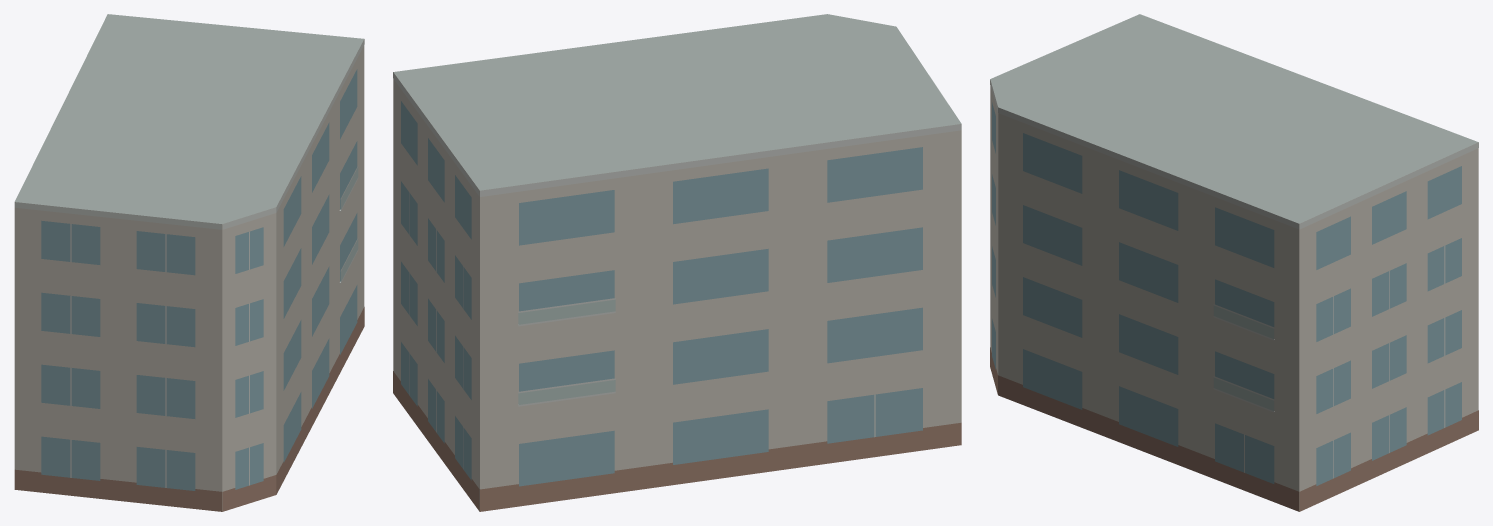
The model's file is survey-upis-32951847.glb.
3 views of the same model, side by side, from view 1: azimuth 30°, elevation 25°; view 2: azimuth 150°, elevation 25°; view 3: azimuth 270°, elevation 25° (orthographic). The views are drawn at different scales.
Visible parts, largest first — view 1: survey-upis-32951847.tmp; view 2: survey-upis-32951847.tmp; view 3: survey-upis-32951847.tmp.
Part boxes in pixels (left/top/right/bottom): survey-upis-32951847.tmp: left=14, top=14, right=364, bottom=511; survey-upis-32951847.tmp: left=393, top=14, right=961, bottom=511; survey-upis-32951847.tmp: left=990, top=14, right=1478, bottom=511.
Bounding box in the file's own units: 19.07 × 12.2 × 18.76.
